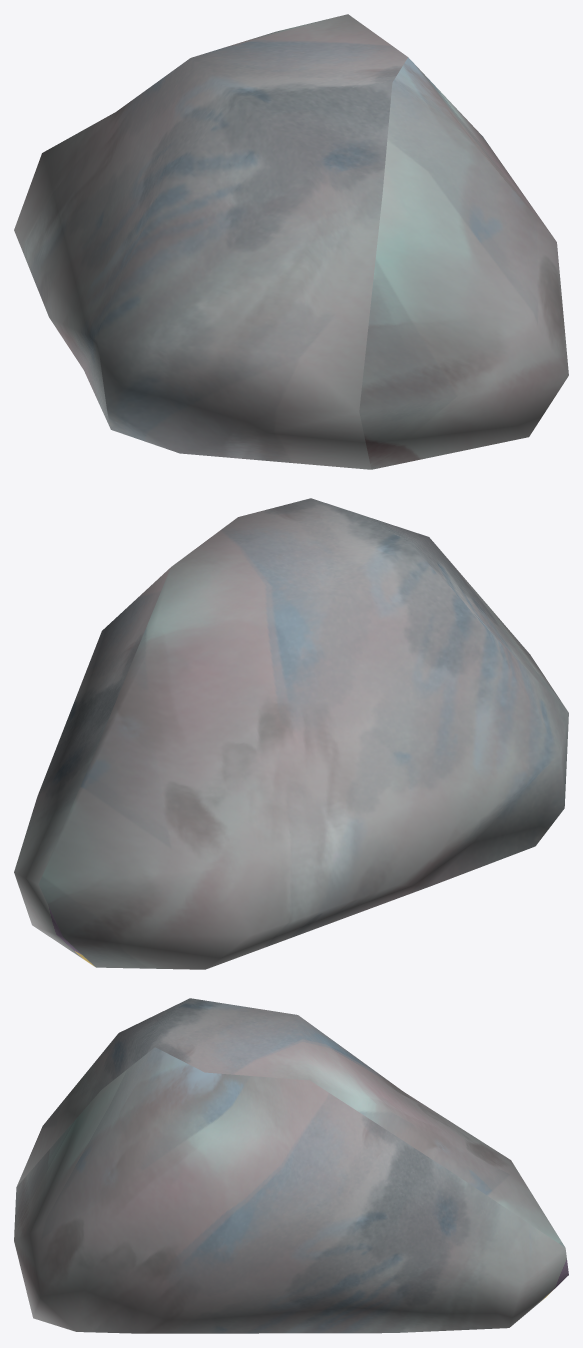
The model's file is m_rock_02.fbx.
3 views of the same model, one above another, from view 1: azimuth 30°, elevation 25°; view 2: azimuth 150°, elevation 25°; view 3: azimuth 270°, elevation 25° (orthographic). The views are drawn at different scales.
Parts seen in each view (by area): view 1: m_rock_02; view 2: m_rock_02; view 3: m_rock_02.
Part boxes in pixels (x1,y1,x2,y2): m_rock_02: (14, 14, 568, 469); m_rock_02: (14, 498, 568, 969); m_rock_02: (14, 998, 568, 1333).
Bounding box in the file's own units: 99.91 × 69.58 × 136.
